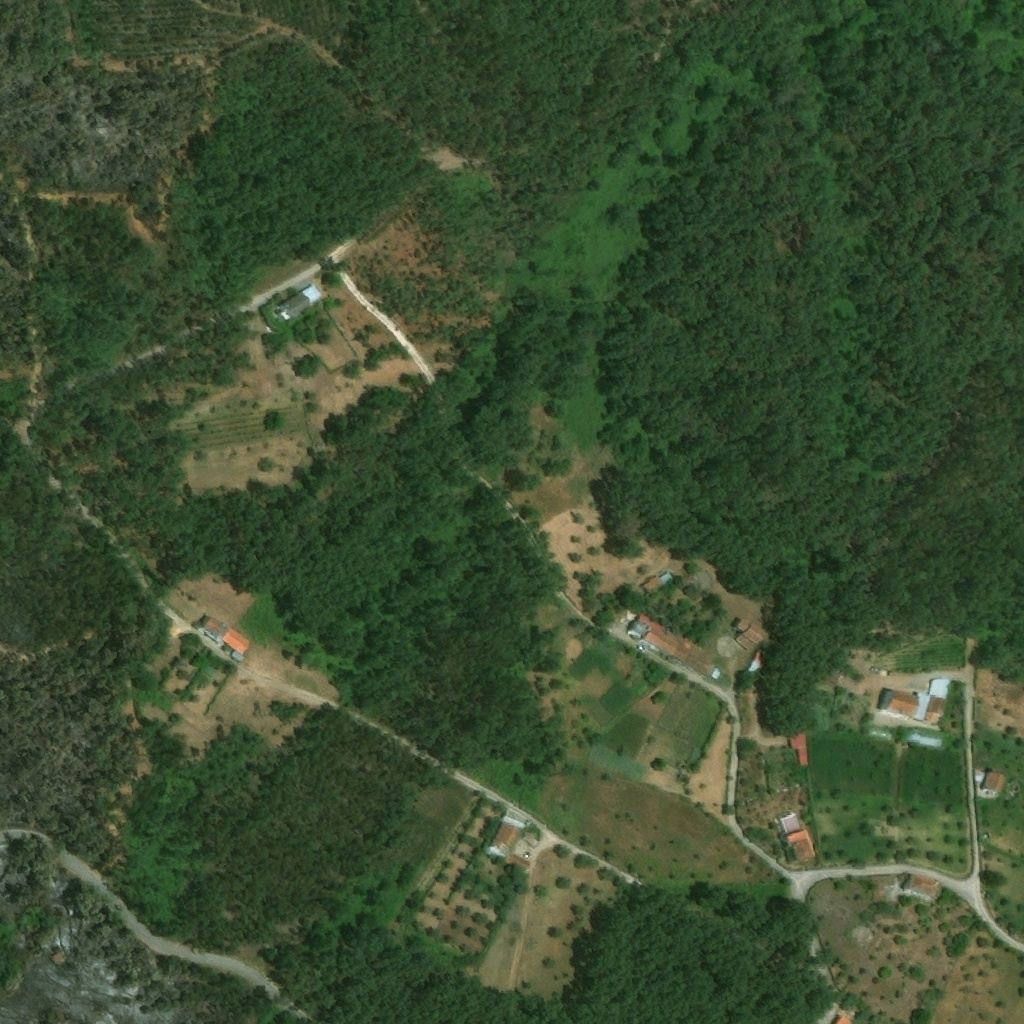0 no-damage: (629, 614, 718, 678), (881, 678, 951, 724), (778, 812, 817, 863), (275, 282, 321, 320), (488, 821, 521, 856), (222, 627, 250, 662), (736, 619, 767, 650), (904, 874, 941, 897), (789, 722, 809, 764), (642, 571, 675, 596), (744, 649, 768, 679), (983, 771, 1007, 793), (505, 808, 531, 828), (506, 853, 532, 872), (204, 614, 224, 636), (833, 1013, 850, 1023), (710, 667, 722, 680)
